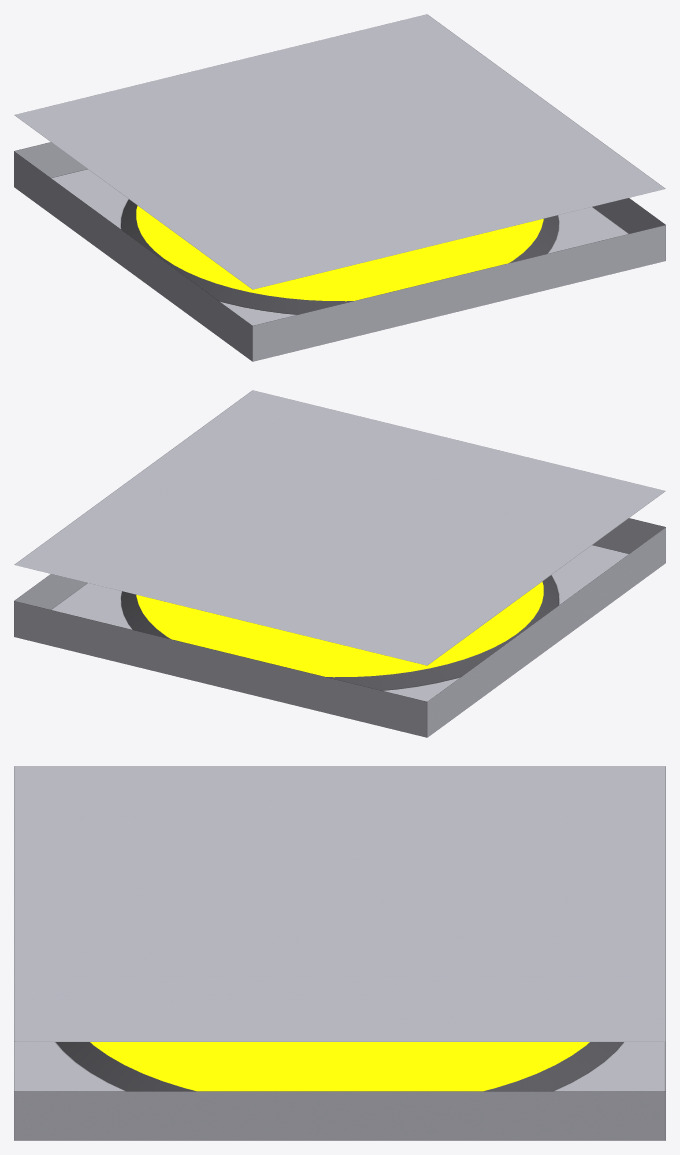
File: Roof_Normal_02.FBX
3 renders of one model, top to bottom at view 1: azimuth 30°, elevation 25°; view 2: azimuth 150°, elevation 25°; view 3: azimuth 270°, elevation 25°, orthographic. The views are drawn at different scales.
Visible parts, largest first — view 1: Roof_Normal_02; view 2: Roof_Normal_02; view 3: Roof_Normal_02.
Part boxes in pixels (<box>): Roof_Normal_02: <box>14,14,665,361</box>; Roof_Normal_02: <box>14,390,665,737</box>; Roof_Normal_02: <box>14,766,665,1140</box>.
Bounding box in the file's own units: 12 × 2 × 12.
Materials: 2 (1 with a texture image).
